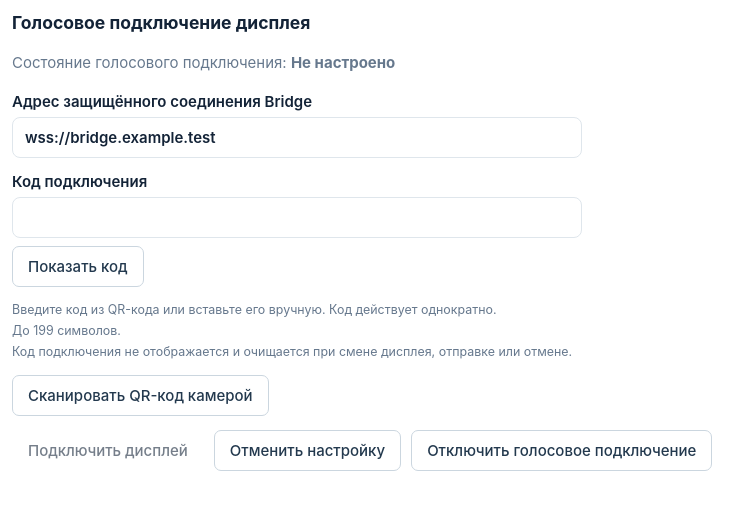
Test: requests camera permission only after a click even without native QR support
Click the button "Сканировать QR-код камерой".
click(140, 395)  # box [12, 375, 269, 416]
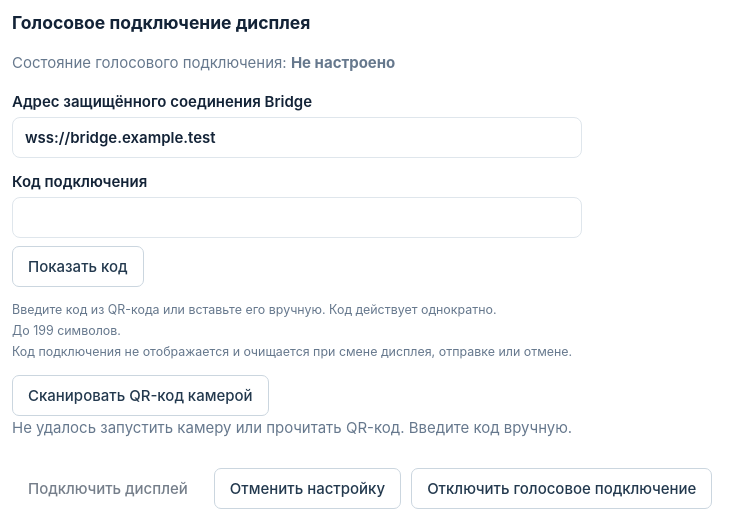
Expected: the password field labelled "Код подключения" is shown, [12, 197, 582, 238]
Now the message shows "Не удалось запустить камеру", box [12, 418, 572, 437]
